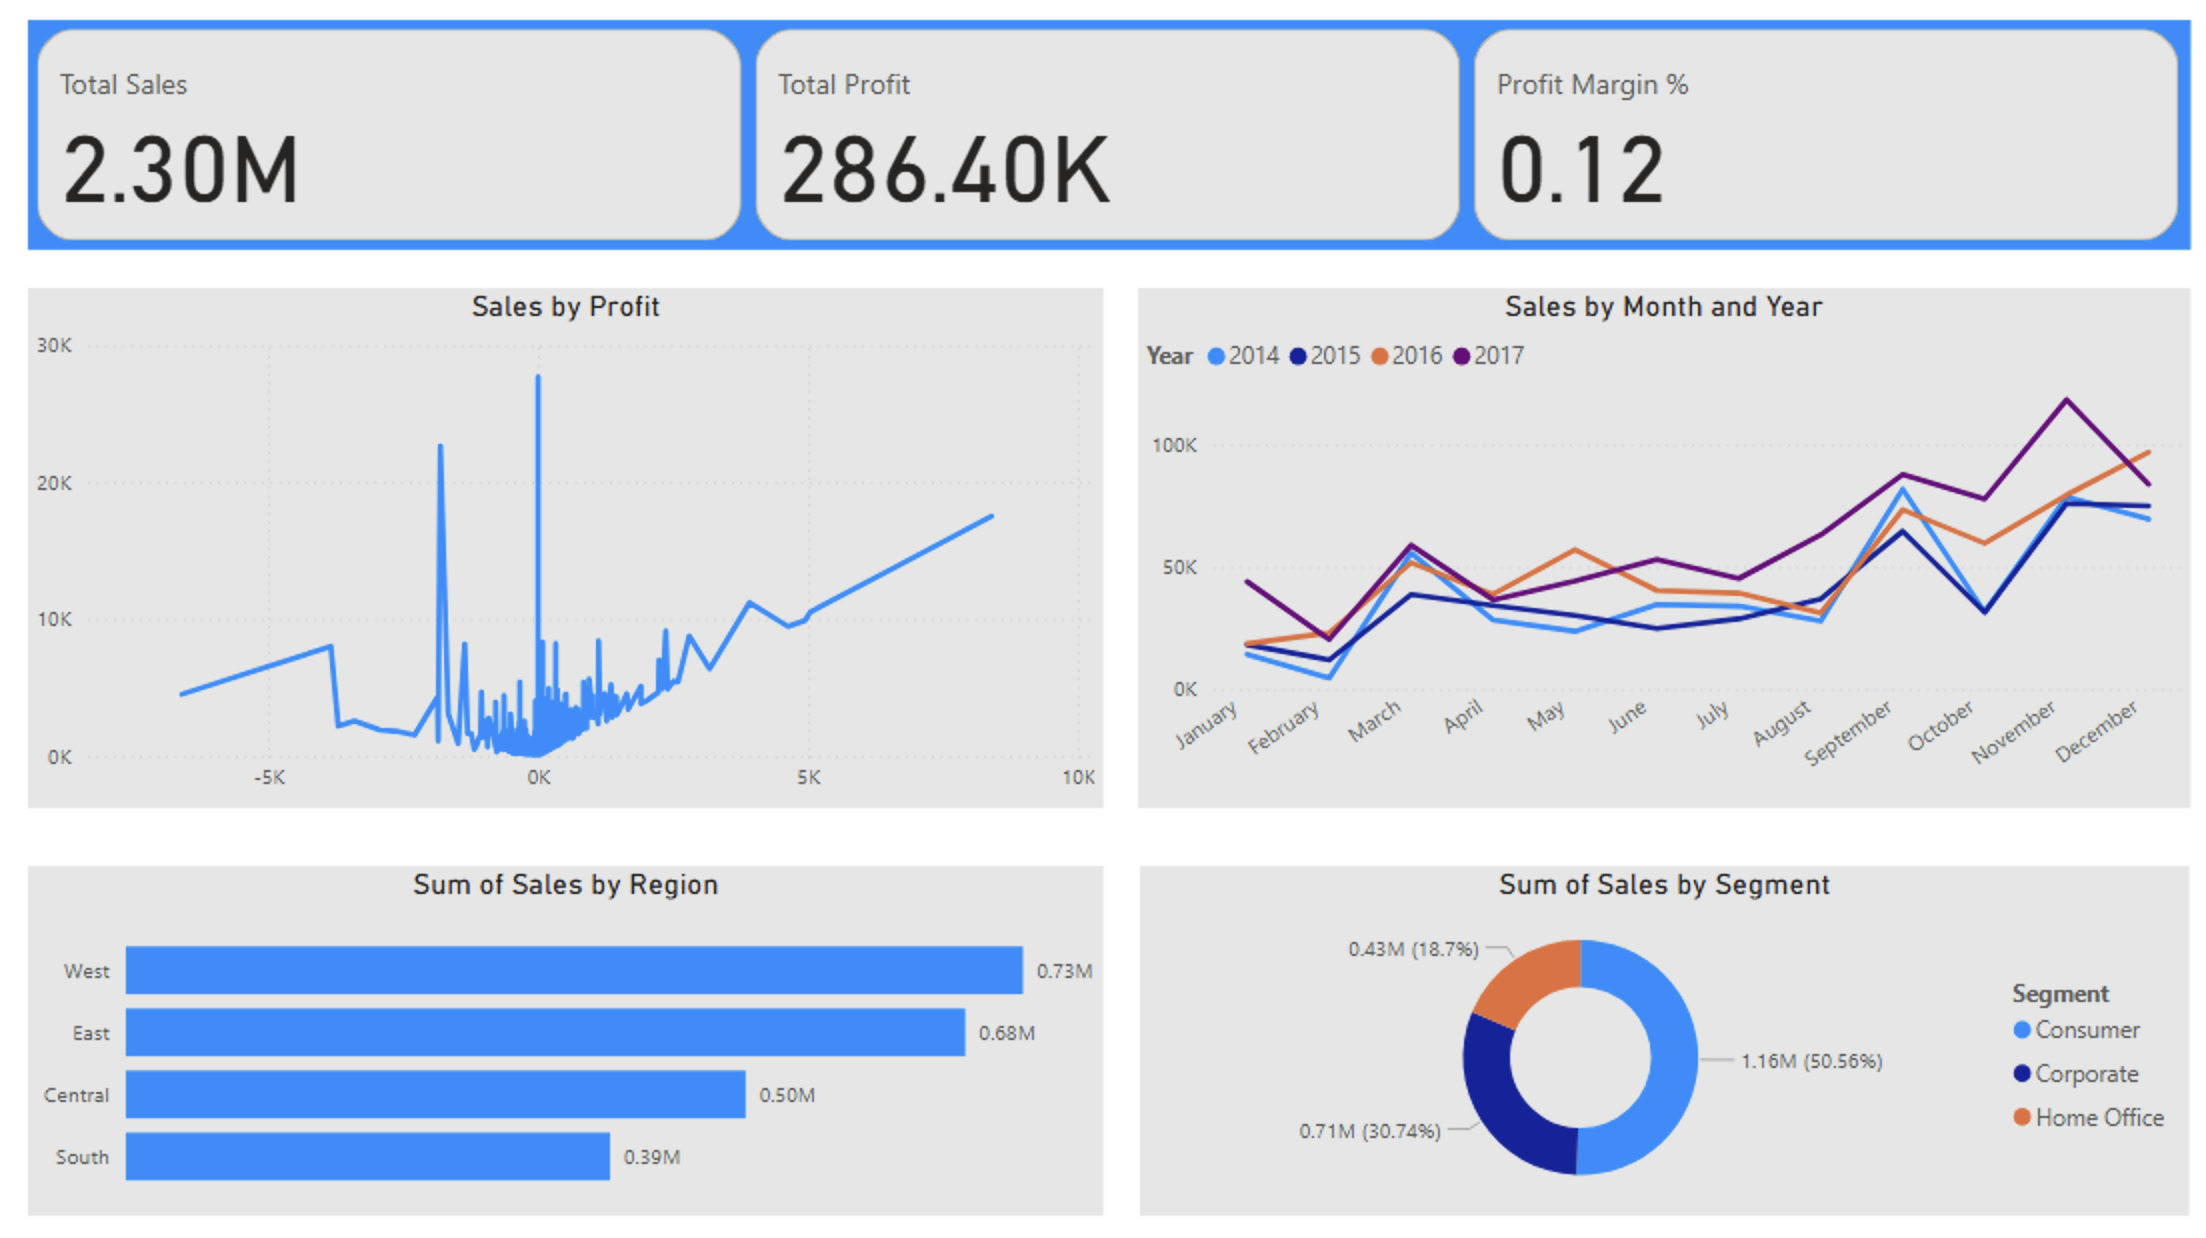

What the dashboard file says about the page in this screenshot:
{"tool":"powerbi","page":{"name":"Executive Summary","canvas":[1280,720],"ordinal":0},"visuals":[{"type":"cardVisual","fields":{"Data":["DAX Measures.Total Sales","DAX Measures.Total Profit","DAX Measures.Profit Margin %"]},"box":[21.8,17.2,1242.5,132.2],"z":0},{"type":"lineChart","title":"Sales by Profit","fields":{"Y":["Sum(Orders.Sales)"],"Category":["Orders.Profit"]},"box":[21.8,171.3,618.4,298.9],"z":1000},{"type":"clusteredBarChart","fields":{"Category":["Geography.Region"],"Y":["Sum(Orders.Sales)"]},"box":[21.8,503.4,618.4,201.1],"z":2000},{"type":"donutChart","fields":{"Y":["Sum(Orders.Sales)"],"Category":["Customers.Segment"]},"box":[660.9,503.4,603.4,201.1],"z":3000},{"type":"lineChart","title":" Sales by Month and Year","fields":{"Y":["Sum(Orders.Sales)"],"Category":["Calander.Month Name"],"Series":["Calander.Year"]},"box":[659.8,171.3,604.6,298.9],"z":4000}]}

Visuals, with their boxes in screenshot pixels (x1, y1, x2, y2), scaled from the page's 1280x720 canvas onto the 2206x1238 screenshot:
cardVisual - DAX Measures.Total Sales x DAX Measures.Total Profit: {"left": 38, "top": 30, "right": 2179, "bottom": 257}
"Sales by Profit" lineChart: {"left": 38, "top": 295, "right": 1103, "bottom": 808}
clusteredBarChart - Geography.Region x Sum(Orders.Sales): {"left": 38, "top": 866, "right": 1103, "bottom": 1211}
donutChart - Sum(Orders.Sales) x Customers.Segment: {"left": 1139, "top": 866, "right": 2179, "bottom": 1211}
" Sales by Month and Year" lineChart: {"left": 1137, "top": 295, "right": 2179, "bottom": 808}
